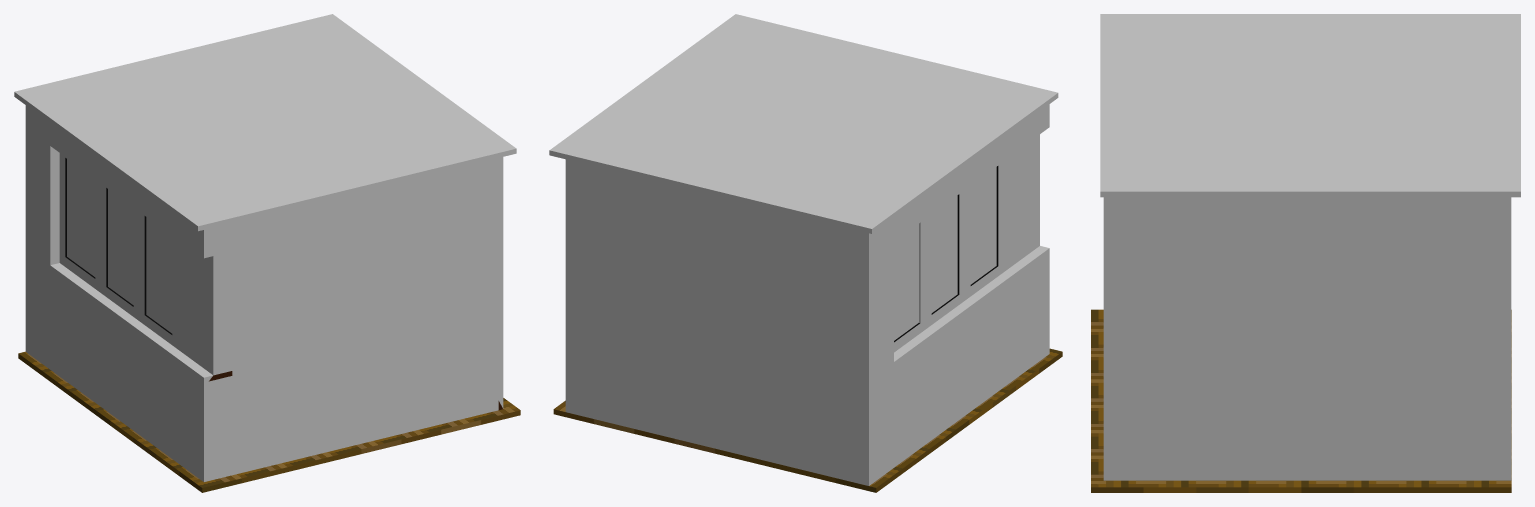
File: Camera.obj
The picture shows the model from 3 angles, left to right: view 1: azimuth 30°, elevation 25°; view 2: azimuth 150°, elevation 25°; view 3: azimuth 270°, elevation 25°; orthographic projection. The views are drawn at different scales.
Parts seen in each view (by area): view 1: Wall, Roof, Windows, Floor; view 2: Wall, Roof, Windows, Floor; view 3: Wall, Roof, Floor.
Part boxes in pixels (<box>): Wall: <box>25,105,503,481</box>; Roof: <box>14,14,516,231</box>; Windows: <box>67,159,172,333</box>; Floor: <box>18,351,520,492</box>; Wall: <box>565,104,1049,485</box>; Roof: <box>549,14,1058,233</box>; Windows: <box>894,167,996,340</box>; Floor: <box>553,348,1062,492</box>; Wall: <box>1103,197,1511,480</box>; Roof: <box>1100,14,1520,197</box>; Floor: <box>1091,309,1511,492</box>.
Bounding box in the file's own units: 4.29 × 3.39 × 4.39.
Materials: 44 (4 with a texture image).
